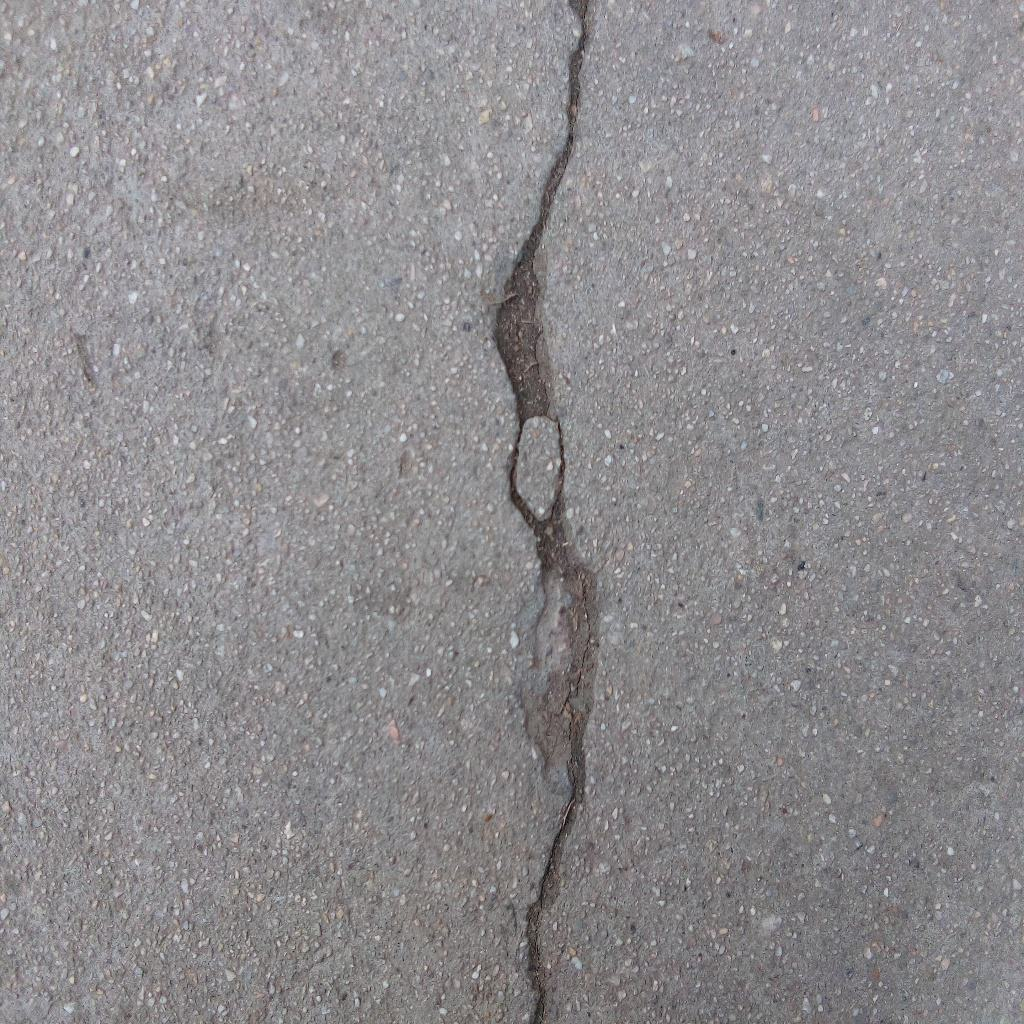Crack: (491, 1, 597, 1024)
